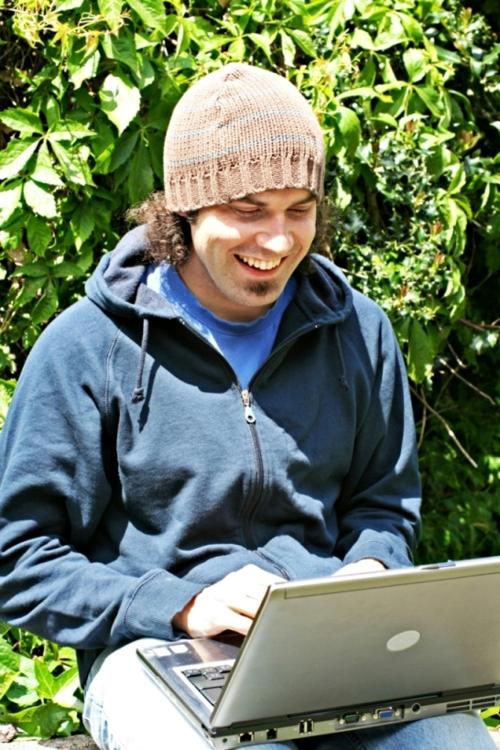person: (1, 63, 497, 750)
